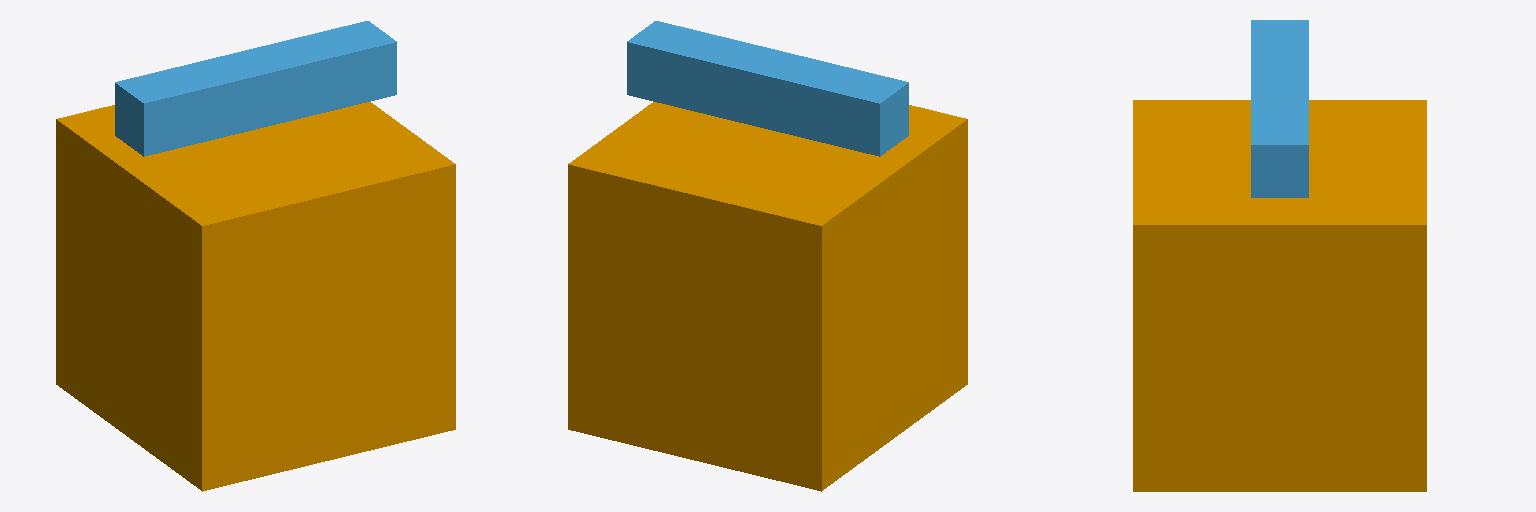
URDF robot description (singlebody):
<?xml version="1.0" ?>
<!-- =================================================================================== -->
<!-- |    This document was autogenerated by xacro from [local-path]/catkin_ws/src/anymal_beth/anymal_beth_description/urdf/anymal_beth.urdf.xacro | -->
<!-- |    EDITING THIS FILE BY HAND IS NOT RECOMMENDED                                 | -->
<!-- =================================================================================== -->
<!--Copyright (C) 2015 by [author]                                    -->
<[email redacted]                                                 -->
<!--                                                                         -->
<!--This program is free software; you can redistribute it and/or modify     -->
<!--it under the terms of the Lesser GNU General Public License as published -->
<!--by the Free Software Foundation; either version 3 of the License, or     -->
<!--(at your option) any later version.                                      -->
<!--                                                                         -->
<!--This program is distributed in the hope that it will be useful,          -->
<!--but WITHOUT ANY WARRANTY; without even the implied warranty of           -->
<!--MERCHANTABILITY or FITNESS FOR A PARTICULAR PURPOSE. See the             -->
<!--Lesser GNU General Public License for more details.                      -->
<!--                                                                         -->
<!--You should have received a copy of the Lesser GNU General Public License -->
<!--along with this program. If not, see <http://www.gnu.org/licenses/>.     -->
<!-- This file contains the description of the ANYmal Beth robot. -->
<robot name="singlebody" xmlns:xacro="http://www.ros.org/wiki/xacro">
    <!-- Xacro:Properties -->
    <!-- [m] -->
    <!-- Base link -->
    <link name="base">
        <visual>
            <origin rpy="0 0 0" xyz="0 0 0"/>
            <geometry>
                <box size="1 1 1"/>
            </geometry>
        </visual>
        <collision>
            <!-- Main Body -->
            <origin rpy="0 0 0" xyz="0 0 0"/>
            <geometry>
                <box size="1 1 1"/>
            </geometry>
        </collision>
        <inertial>
            <origin rpy="0 0 0" xyz="0 0 0"/>
            <mass value="10"/>
            <inertia ixx="0.4167" ixy="0" ixz="0" iyy="0.4167" iyz="0" izz="0.4167"/>
        </inertial>
    </link>
	<joint name="revolute" type="revolute">
        <parent link="base"/>
        <child link="bar"/>
        <origin xyz="0.0 0.0 0.7"/>
        <axis xyz="0 0 1"/>
        <limit effort="80" lower="-6.28" upper="6.28" velocity="15"/>
        <dynamics damping="0.0" friction="0.0"/>
    </joint>
    <link name="bar">
		<visual>
			<origin rpy="0 0 0" xyz="0 0 0"/>
			<geometry>
				<box size="1 0.2 0.2"/>
			</geometry>
		</visual>
		<collision>
			<!-- Main Body -->
			<origin rpy="0 0 0" xyz="0 0 0"/>
			<geometry>
				<box size="1 0.2 0.2"/>
			</geometry>
		</collision>
		<inertial>
			<origin rpy="0 0 0" xyz="0 0 0"/>
			<mass value="10"/>
			<inertia ixx="0.4167" ixy="0" ixz="0" iyy="0.4167" iyz="0" izz="0.4167"/>
		</inertial>
	</link>
</robot>

--- Render facts (derived) ---
The picture shows the robot from 3 angles, left to right: view 1: azimuth 30°, elevation 25°; view 2: azimuth 150°, elevation 25°; view 3: azimuth 270°, elevation 25°; orthographic projection.
Model singlebody with 2 links and 1 joints (1 revolute), rooted at base, posed every joint at zero.
Links seen in each view (by area): view 1: base, bar; view 2: base, bar; view 3: base, bar.
Boxes of the visible links, <box> form: base: <box>56,102,455,491</box>; bar: <box>115,21,396,156</box>; base: <box>568,102,967,491</box>; bar: <box>627,21,908,156</box>; base: <box>1133,100,1426,491</box>; bar: <box>1251,20,1308,197</box>.
Size in the robot's own frame: 1 by 1 by 1.3 metres.
Geometry: primitives only (box / cylinder / sphere), no mesh files.
